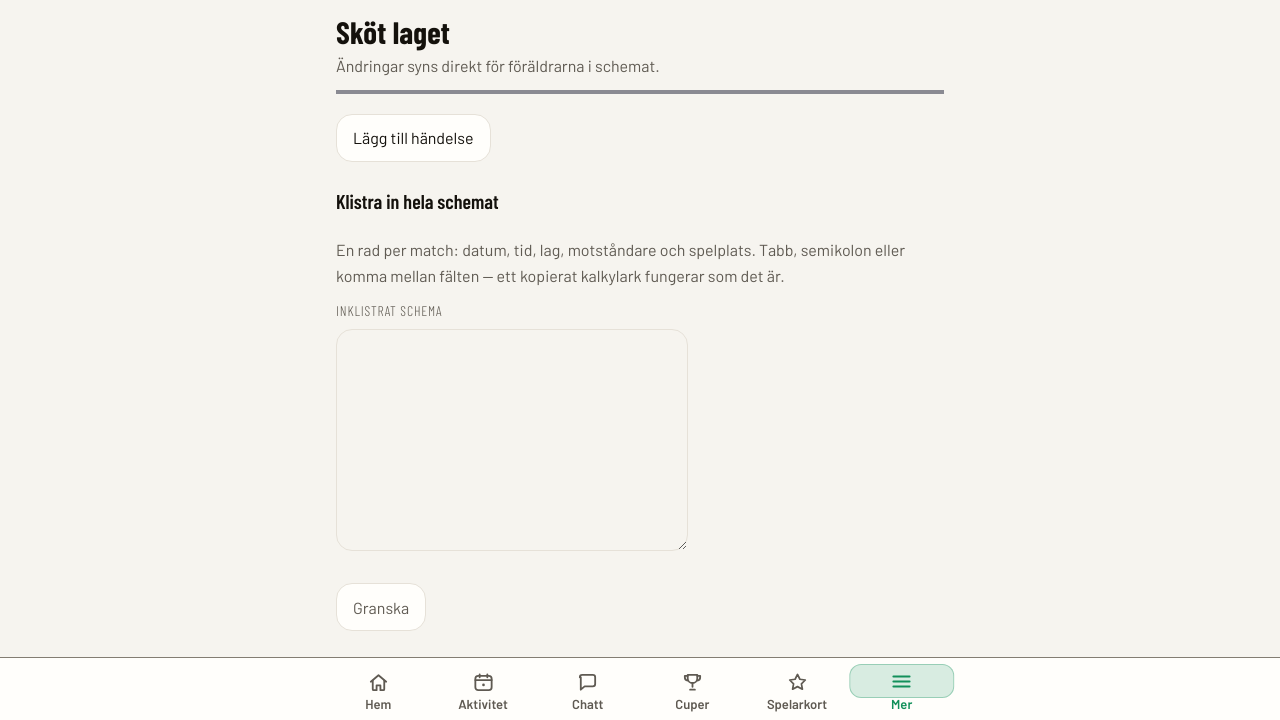
Test: hemma eller annan plats › visar ett laddningsbesked, inte "ingen hemmaplan", medan planen hämtas (#478)
Click the button "Lägg till händelse".
click(413, 138)  # box [336,114,490,162]
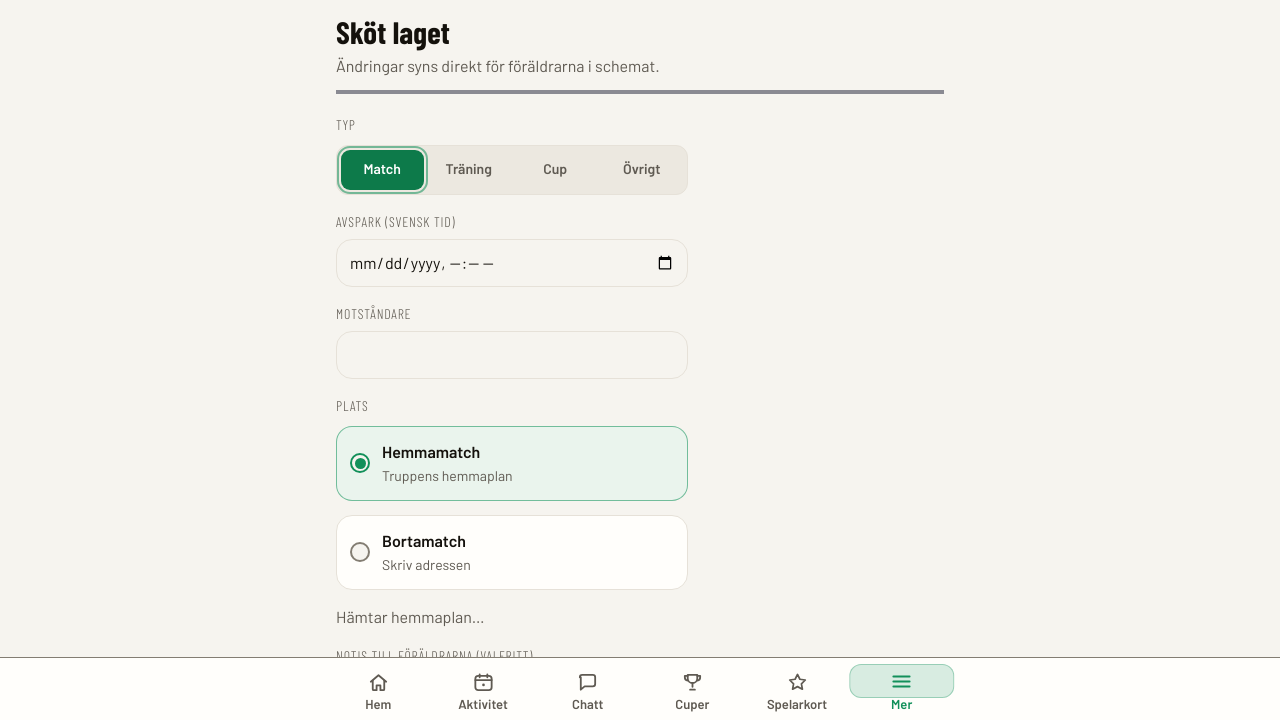
Now the text "Hämtar hemmaplan…" is shown, box [336,607,485,626]
